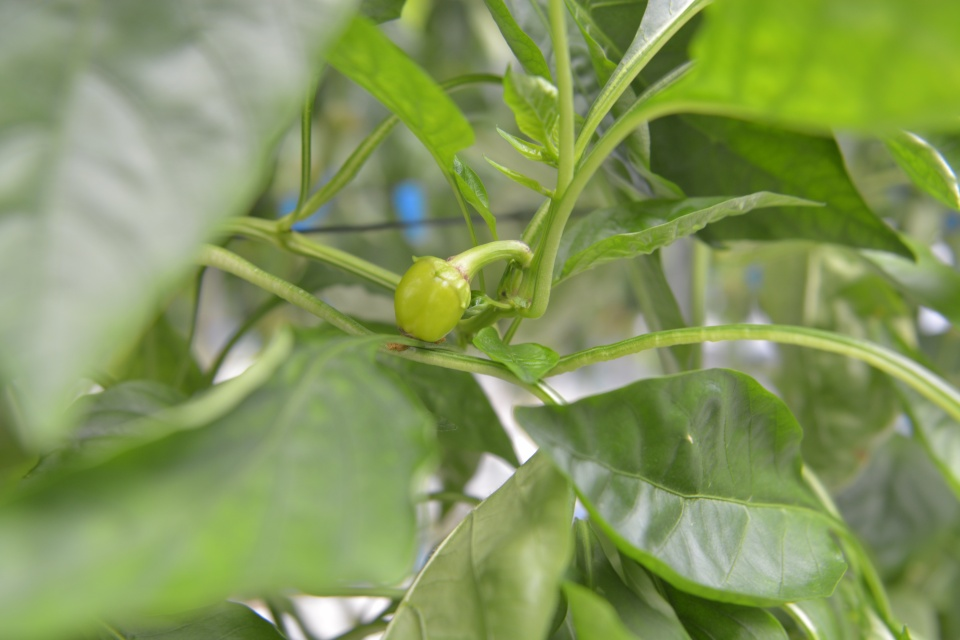immature: (392, 250, 475, 343)
